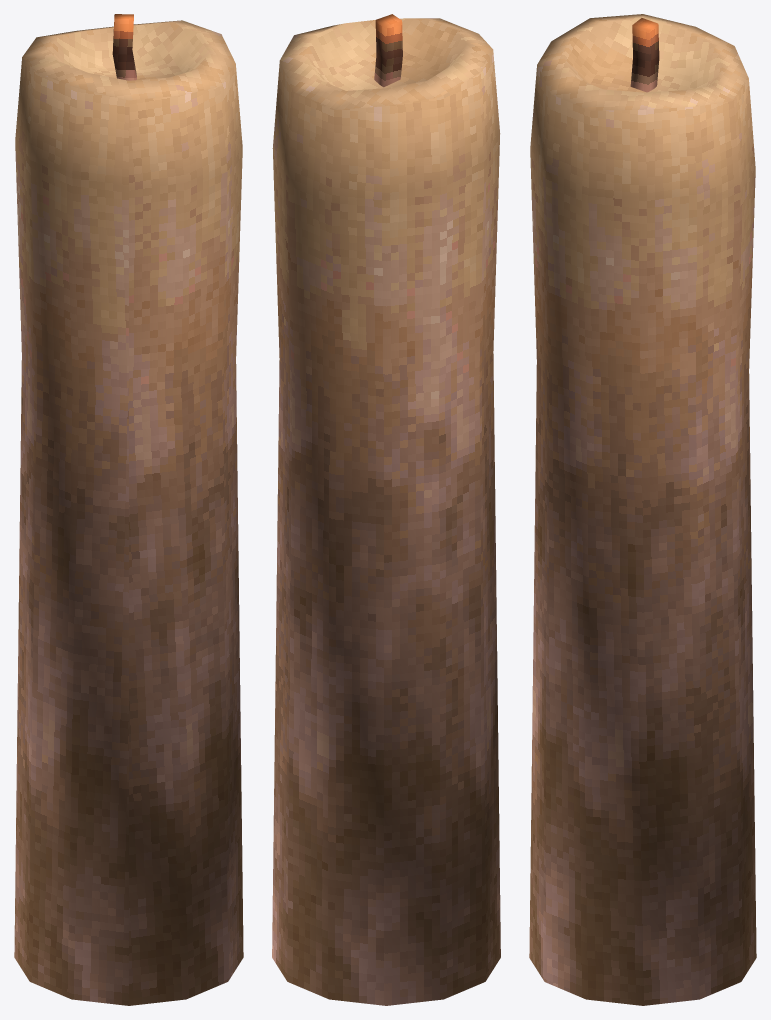
The model's file is candle_stage0.glb.
The picture shows the model from 3 angles, left to right: view 1: azimuth 30°, elevation 25°; view 2: azimuth 150°, elevation 25°; view 3: azimuth 270°, elevation 25°; orthographic projection.
Parts seen in each view (by area): view 1: candle_stage0; view 2: candle_stage0; view 3: candle_stage0.
Part boxes in pixels (box(x1,y1,x2,y2)): candle_stage0: box(14, 14, 243, 1005); candle_stage0: box(272, 14, 500, 1005); candle_stage0: box(529, 14, 756, 1005).
Bounding box in the file's own units: 0.1051 × 0.4764 × 0.1051.
1 material, 1 textured.
